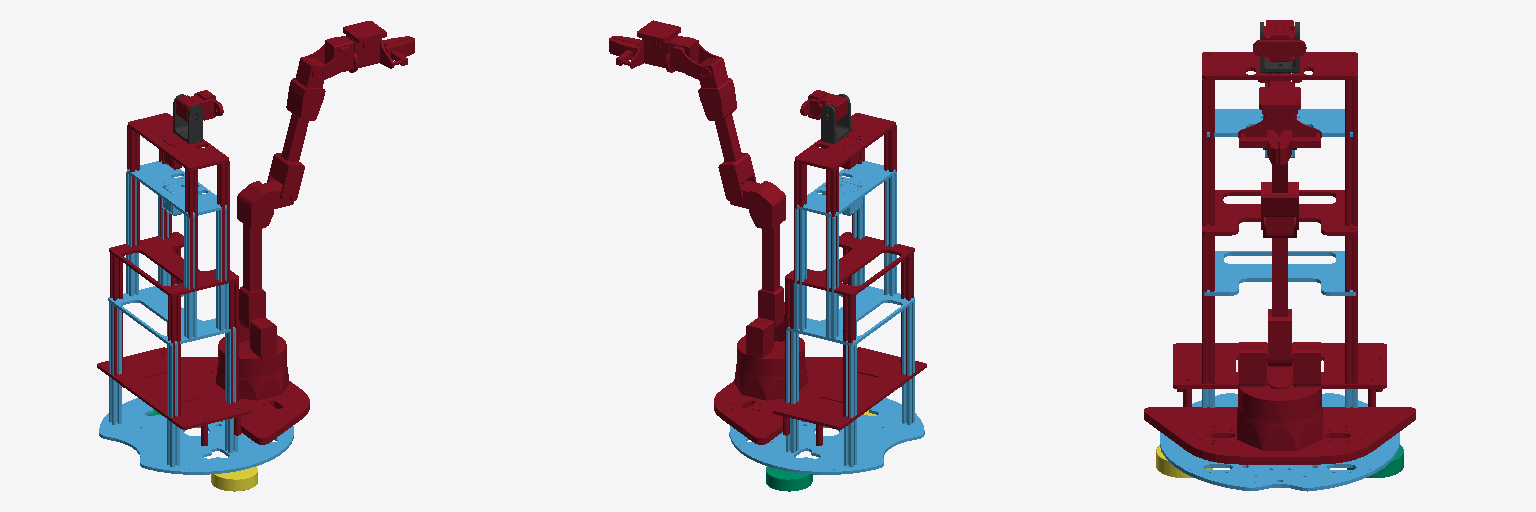
--- What the picture shows (computed from the rendered views, not written in the file) ---
The picture shows the robot from 3 angles, left to right: view 1: azimuth 30°, elevation 25°; view 2: azimuth 150°, elevation 25°; view 3: azimuth 270°, elevation 25°; orthographic projection.
Model locobot with 25 links and 24 joints (24 fixed), rooted at base_footprint, posed every joint at zero.
Links seen in each view (by area): view 1: base_link, cam_mount, elbow_link, forearm_link, plate_2, arm_base_link, shoulder_link, wrist_link, gripper_link, head_pan_link, head_tilt_link, wheel_right_link (+1 smaller); view 2: base_link, cam_mount, elbow_link, forearm_link, plate_2, arm_base_link, shoulder_link, wrist_link, gripper_link, head_pan_link, head_tilt_link, wheel_left_link (+1 smaller); view 3: cam_mount, base_link, plate_2, arm_base_link, shoulder_link, elbow_link, gripper_link, forearm_link, head_tilt_link, plate_1, ar_tag, head_pan_link.
Link boxes in pixels (left/top/right/bottom): base_link: left=99, top=161, right=293, bottom=474; cam_mount: left=97, top=113, right=250, bottom=445; elbow_link: left=237, top=180, right=293, bottom=331; forearm_link: left=267, top=57, right=325, bottom=200; plate_2: left=181, top=357, right=309, bottom=441; arm_base_link: left=216, top=348, right=288, bottom=400; shoulder_link: left=218, top=317, right=286, bottom=360; wrist_link: left=299, top=36, right=353, bottom=80; gripper_link: left=346, top=35, right=407, bottom=72; head_pan_link: left=173, top=94, right=202, bottom=143; head_tilt_link: left=176, top=90, right=223, bottom=121; wheel_right_link: left=211, top=466, right=257, bottom=491; base_link: left=729, top=161, right=924, bottom=474; cam_mount: left=773, top=113, right=926, bottom=445; elbow_link: left=730, top=180, right=785, bottom=330; forearm_link: left=698, top=57, right=756, bottom=201; plate_2: left=714, top=357, right=842, bottom=441; arm_base_link: left=734, top=349, right=807, bottom=400; shoulder_link: left=737, top=302, right=804, bottom=360; wrist_link: left=670, top=36, right=724, bottom=80; gripper_link: left=616, top=35, right=677, bottom=72; head_pan_link: left=821, top=94, right=850, bottom=143; head_tilt_link: left=800, top=90, right=847, bottom=121; wheel_left_link: left=766, top=466, right=812, bottom=491; cam_mount: left=1173, top=52, right=1386, bottom=406; base_link: left=1160, top=109, right=1399, bottom=491; plate_2: left=1144, top=407, right=1415, bottom=460; arm_base_link: left=1237, top=385, right=1322, bottom=450; shoulder_link: left=1238, top=342, right=1321, bottom=402; elbow_link: left=1263, top=217, right=1296, bottom=366; gripper_link: left=1238, top=110, right=1321, bottom=147; forearm_link: left=1261, top=83, right=1298, bottom=229; head_tilt_link: left=1253, top=20, right=1306, bottom=61; plate_1: left=1144, top=415, right=1415, bottom=464; ar_tag: left=1259, top=87, right=1300, bottom=115; head_pan_link: left=1260, top=22, right=1299, bottom=72.
Bounding box of the posed robot: 0.5041 × 0.3299 × 0.6306 m (x, y, z).
Meshes: 16 distinct files referenced, 17 mesh visuals loaded (15 OBJ); not drawn: 1 (reference not matched to a file when rendering).

The robot description file, URDF, robot "locobot":
<?xml version="1.0" ?>
<robot name="locobot">
    <!-- Kobuki -->
    <link name="base_footprint"/>
    <!--
       Base link is set at the bottom of the base mould.
       This is done to be compatible with the way base link
       was configured for turtlebot 1. Refer to

       https://github.com/turtlebot/turtlebot/issues/40

       To put the base link at the more oft used wheel
       axis, set the z-distance from the base_footprint
       to 0.352.
      -->
    <joint name="base_joint" type="fixed">
        <origin rpy="0 0 0" xyz="0 0 0"/>
        <parent link="base_footprint"/>
        <child link="base_link"/>
    </joint>
    <link name="base_link">
        <visual>
            <geometry>
                <!-- new mesh -->
                <mesh filename="meshes/base_link2.obj"/>
            </geometry>
            <origin rpy="0 0 0" xyz="0.001 0 0.05199"/>
        </visual>
        <collision name="base">
            <geometry>
                <cylinder length="0.10938" radius="0.178"/>
            </geometry>
            <origin rpy="0 0 0" xyz="0.0 0 0.05949"/>
        </collision>
        <inertial>
            <!-- COM experimentally determined -->
            <origin xyz="0.01 0 0"/>
            <mass value="2.4"/>
            <!-- 2.4/2.6 kg for small/big battery pack -->
            <!-- Kobuki's inertia tensor is approximated by a cylinder with homogeneous mass distribution
             More details: http://en.wikipedia.org/wiki/List_of_moment_of_inertia_tensors
             m = 2.4 kg; h = 0.09 m; r = 0.175 m
             ixx = 1/12 * m * (3 * r^2 + h^2)
             iyy = 1/12 * m * (3 * r^2 + h^2)
             izz = 1/2 * m * r^2
          -->
            <inertia ixx="0.019995" ixy="0.0" ixz="0.0" iyy="0.019995" iyz="0.0" izz="0.03675"/>
        </inertial>
    </link>
    <joint name="wheel_left_joint" type="fixed">
        <parent link="base_link"/>
        <child link="wheel_left_link"/>
        <origin rpy="-1.57079632679 0 0" xyz="0.00 0.115 0.0250"/>
    </joint>
    <link name="wheel_left_link">
        <visual>
            <geometry>
                <mesh filename="meshes/wheel.obj"/>
            </geometry>
            <origin rpy="0 0 0" xyz="0 0 0"/>
        </visual>
        <collision>
            <geometry>
                <cylinder length="0.0206" radius="0.0352"/>
            </geometry>
            <origin rpy="0 0 0" xyz="0 0 0"/>
        </collision>
        <inertial>
            <mass value="0.01"/>
            <origin xyz="0 0 0"/>
            <inertia ixx="0.001" ixy="0.0" ixz="0.0" iyy="0.001" iyz="0.0" izz="0.001"/>
        </inertial>
    </link>
    <joint name="wheel_right_joint" type="fixed">
        <parent link="base_link"/>
        <child link="wheel_right_link"/>
        <origin rpy="-1.57079632679 0 0" xyz="0.00 -0.115 0.0250"/>
    </joint>
    <link name="wheel_right_link">
        <visual>
            <geometry>
                <mesh filename="meshes/wheel.obj"/>
            </geometry>
            <origin rpy="0 0 0" xyz="0 0 0"/>
        </visual>
        <collision>
            <geometry>
                <cylinder length="0.0206" radius="0.0350"/>
            </geometry>
            <origin rpy="0 0 0" xyz="0 0 0"/>
        </collision>
        <inertial>
            <mass value="0.01"/>
            <origin xyz="0 0 0"/>
            <inertia ixx="0.001" ixy="0.0" ixz="0.0" iyy="0.001" iyz="0.0" izz="0.001"/>
        </inertial>
    </link>
    <joint name="caster_front_joint" type="fixed">
        <parent link="base_link"/>
        <child link="caster_front_link"/>
        <origin rpy="-1.57079632679 0 0" xyz="0.115 0.0 0.007"/>
    </joint>
    <link name="caster_front_link">
        <collision>
            <geometry>
                <cylinder length="0.0176" radius="0.017"/>
            </geometry>
            <origin rpy="0 0 0" xyz="0 0 0"/>
        </collision>
        <inertial>
            <mass value="0.01"/>
            <origin xyz="0 0 0"/>
            <inertia ixx="0.001" ixy="0.0" ixz="0.0" iyy="0.001" iyz="0.0" izz="0.001"/>
        </inertial>
    </link>
    <joint name="caster_back_joint" type="fixed">
        <parent link="base_link"/>
        <child link="caster_back_link"/>
        <origin rpy="-1.57079632679 0 0" xyz="-0.135 0.0 0.009"/>
    </joint>
    <link name="caster_back_link">
        <collision>
            <geometry>
                <cylinder length="0.0176" radius="0.017"/>
            </geometry>
            <origin rpy="0 0 0" xyz="0 0 0"/>
        </collision>
        <inertial>
            <mass value="0.01"/>
            <origin xyz="0 0 0"/>
            <inertia ixx="0.001" ixy="0.0" ixz="0.0" iyy="0.001" iyz="0.0" izz="0.001"/>
        </inertial>
    </link>
    <!-- Kobuki's sensors -->
    <joint name="gyro_joint" type="fixed">
        <axis xyz="0 1 0"/>
        <origin rpy="0 0 0" xyz="0.056 0.062 0.0202"/>
        <parent link="base_link"/>
        <child link="gyro_link"/>
    </joint>
    <link name="gyro_link">
        <inertial>
            <mass value="0.001"/>
            <origin rpy="0 0 0" xyz="0 0 0"/>
            <inertia ixx="0.0001" ixy="0" ixz="0" iyy="0.000001" iyz="0" izz="0.0001"/>
        </inertial>
    </link>
    <joint name="cliff_sensor_left_joint" type="fixed">
        <origin rpy="0 1.57079632679 0" xyz="0.08734 0.13601 0.0214"/>
        <parent link="base_link"/>
        <child link="cliff_sensor_left_link"/>
    </joint>
    <link name="cliff_sensor_left_link">
        <inertial>
            <mass value="0.0001"/>
            <origin xyz="0 0 0"/>
            <inertia ixx="0.0001" ixy="0.0" ixz="0.0" iyy="0.0001" iyz="0.0" izz="0.0001"/>
        </inertial>
    </link>
    <joint name="cliff_sensor_right_joint" type="fixed">
        <origin rpy="0 1.57079632679 0" xyz="0.085 -0.13601 0.0214"/>
        <parent link="base_link"/>
        <child link="cliff_sensor_right_link"/>
    </joint>
    <link name="cliff_sensor_right_link">
        <inertial>
            <mass value="0.0001"/>
            <origin xyz="0 0 0"/>
            <inertia ixx="0.0001" ixy="0.0" ixz="0.0" iyy="0.0001" iyz="0.0" izz="0.0001"/>
        </inertial>
    </link>
    <joint name="cliff_sensor_front_joint" type="fixed">
        <origin rpy="0 1.57079632679 0" xyz="0.156 0.00 0.0214"/>
        <parent link="base_link"/>
        <child link="cliff_sensor_front_link"/>
    </joint>
    <link name="cliff_sensor_front_link">
        <inertial>
            <mass value="0.0001"/>
            <origin xyz="0 0 0"/>
            <inertia ixx="0.0001" ixy="0.0" ixz="0.0" iyy="0.0001" iyz="0.0" izz="0.0001"/>
        </inertial>
    </link>
    <!-- plates  -->
    <link name="plate_1">
        <inertial>
            <origin rpy="0 0 0" xyz="0 0 0"/>
            <mass value="0.640128902693298"/>
            <inertia ixx="0.0212697824374231" ixy="-1.84819421839641E-07" ixz="0.00177278831625861" iyy="0.0200161122874848" iyz="1.82514218153984E-07" izz="0.00538401325307411"/>
        </inertial>
        <visual>
            <origin rpy="0 0 0" xyz="0 0 0"/>
            <geometry>
                <mesh filename="meshes/plate.obj"/>
            </geometry>
            <material name="">
                <color rgba="0.56 0.095 0.165 1.0" />
            </material>
        </visual>
        <collision>
            <origin rpy="0 0 0" xyz="0 0 0"/>
            <geometry>
                <mesh filename="meshes/plate.obj"/>
            </geometry>
        </collision>
    </link>
    <joint name="plate_1_joint" type="fixed">
        <origin rpy="0 0 0" xyz="0.0973 0 0.0902375"/>
        <parent link="base_link"/>
        <child link="plate_1"/>
        <axis xyz="0 0 0"/>
    </joint>
    <link name="plate_2">
        <inertial>
            <origin rpy="0 0 0" xyz="0 0 0"/>
            <mass value="0.640128902693298"/>
            <inertia ixx="0.0212697824374231" ixy="-1.84819421839641E-07" ixz="0.00177278831625861" iyy="0.0200161122874848" iyz="1.82514218153984E-07" izz="0.00538401325307411"/>
        </inertial>
        <visual>
            <origin rpy="0 0 0" xyz="0 0 0"/>
            <geometry>
                <mesh filename="meshes/plate.obj"/>
            </geometry>
            <material name="">
                <color rgba="0.56 0.095 0.165 1.0" />
            </material>
        </visual>
        <collision>
            <origin rpy="0 0 0" xyz="0 0 0"/>
            <geometry>
                <mesh filename="meshes/plate.obj"/>
            </geometry>
        </collision>
    </link>
    <joint name="plate_2_joint" type="fixed">
        <origin rpy="0 0 0" xyz="0 0 0.0047625"/>
        <parent link="plate_1"/>
        <child link="plate_2"/>
        <axis xyz="0 0 0"/>
    </joint>
    <!-- add arm -->
    <link name="arm_base_link">
        <inertial>
            <origin rpy="0 0 0" xyz="-1.86027246940057E-08 -1.84987775462994E-08 0.0400356424684456"/>
            <mass value="0.531491686912019"/>
            <inertia ixx="0.000533657400855491" ixy="-4.44205269454465E-09" ixz="2.11078566024265E-10" iyy="0.000533665698902565" iyz="5.02029005902419E-11" izz="0.00071572082392375"/>
        </inertial>
        <visual>
            <origin rpy="0 0 0" xyz="0 0 0"/>
            <geometry>
                <mesh filename="meshes/arm_base_link.obj"/>
            </geometry>
            <material name="">
                <color rgba="0.56 0.095 0.165 1.0" />
            </material>
        </visual>
        <collision>
            <origin rpy="0 0 0" xyz="0 0 0"/>
            <geometry>
                <mesh filename="meshes/arm_base_link.obj"/>
            </geometry>
        </collision>
    </link>
    <joint name="arm_base_link_joint" type="fixed">
        <origin rpy="0 0 0" xyz="0 0 0.001"/>
        <parent link="plate_2"/>
        <child link="arm_base_link"/>
        <axis xyz="0 0 0"/>
    </joint>
    <link name="shoulder_link">
        <inertial>
            <origin rpy="0 0 0" xyz="-5.67968980068612E-05 1.09785478984274E-10 0.0228467386735302"/>
            <mass value="0.119861197293521"/>
            <inertia ixx="0.000161288180462291" ixy="7.59806211309873E-14" ixz="-1.45323090659527E-07" iyy="5.49696562437107E-05" iyz="1.81052501311883E-13" izz="0.000150800672543169"/>
        </inertial>
        <visual>
            <origin rpy="0 0 0" xyz="0 0 0"/>
            <geometry>
                <mesh filename="meshes/shoulder_link.obj"/>
            </geometry>
            <material name="">
                <color rgba="0.56 0.095 0.165 1.0" />
            </material>
        </visual>
        <collision>
            <origin rpy="0 0 0" xyz="0 0 0"/>
            <geometry>
                <mesh filename="meshes/shoulder_link.obj"/>
            </geometry>
        </collision>
    </link>
    <joint name="joint_1" type="fixed">
        <origin rpy="0 0 0" xyz="0 0 0.072"/>
        <parent link="arm_base_link"/>
        <child link="shoulder_link"/>

    </joint>
    <link name="elbow_link">
        <inertial>
            <origin rpy="0 0 0" xyz="0.00959755948481227 -2.30930057287648E-10 0.134296795349987"/>
            <mass value="0.212482745791037"/>
            <inertia ixx="0.0011748973771367" ixy="-4.7094567420817E-13" ixz="-0.000132188939134774" iyy="0.00122350302249847" iyz="-5.48932537472287E-12" izz="9.02202689343621E-05"/>
        </inertial>
        <visual>
            <origin rpy="0 0 0" xyz="0 0 0"/>
            <geometry>
                <mesh filename="meshes/elbow_link.obj"/>
            </geometry>
            <material name="">
                <color rgba="0.56 0.095 0.165 1.0" />
            </material>
        </visual>
        <collision>
            <origin rpy="0 0 0" xyz="0 0 0"/>
            <geometry>
                <mesh filename="meshes/elbow_link.obj"/>
            </geometry>
        </collision>
    </link>
    <joint name="joint_2" type="fixed">
        <origin rpy="0 0 0" xyz="0 0 0.04125"/>
        <parent link="shoulder_link"/>
        <child link="elbow_link"/>

    </joint>
    <link name="forearm_link">
        <inertial>
            <origin rpy="0 0 0" xyz="0.117829826272582 3.09310973110905E-15 -1.26218883678142E-08"/>
            <mass value="0.18746427435805"/>
            <inertia ixx="3.94142667601686E-05" ixy="-3.65830967659785E-19" ixz="9.25852572167442E-11" iyy="0.000725209569605637" iyz="-1.05290858715495E-18" izz="0.000737165881391993"/>
        </inertial>
        <visual>
            <origin rpy="0 0 0" xyz="0 0 0"/>
            <geometry>
                <mesh filename="meshes/forearm_link.obj"/>
            </geometry>
            <material name="">
                <color rgba="0.56 0.095 0.165 1.0" />
            </material>
        </visual>
        <collision>
            <origin rpy="0 0 0" xyz="0 0 0"/>
            <geometry>
                <mesh filename="meshes/forearm_link.obj"/>
            </geometry>
        </collision>
    </link>
    <joint name="joint_3" type="fixed">
        <origin rpy="0 -1.3 0" xyz="0.05 0 0.2"/>
        <parent link="elbow_link"/>
        <child link="forearm_link"/>

    </joint>
    <link name="wrist_link">
        <inertial>
            <origin rpy="0 0 0" xyz="0.0429410028407894 4.98644733821042E-05 0.0114266948023652"/>
            <mass value="0.0605921736680362"/>
            <inertia ixx="1.84998512056284E-05" ixy="-1.03256667343112E-08" ixz="-1.71865409274096E-06" iyy="2.08955068262134E-05" iyz="5.05203399787143E-09" izz="1.97857037442992E-05"/>
        </inertial>
        <visual>
            <origin rpy="0 0 0" xyz="0 0 0"/>
            <geometry>
                <mesh filename="meshes/wrist_link.obj"/>
            </geometry>
            <material name="">
                <color rgba="0.56 0.095 0.165 1.0" />
            </material>
        </visual>
        <collision>
            <origin rpy="0 0 0" xyz="0 0 0"/>
            <geometry>
                <mesh filename="meshes/wrist_link.obj"/>
            </geometry>
        </collision>
    </link>
    <joint name="joint_4" type="fixed">
        <origin rpy="0 1.3 0" xyz="0.2002 0 0"/>
        <parent link="forearm_link"/>
        <child link="wrist_link"/>

    </joint>
    <link name="gripper_link">
        <inertial>
            <origin rpy="0 0 0" xyz="0.0311572802112565 -1.25977280754998E-05 0.0092307003092138"/>
            <mass value="0.0795745052466434"/>
            <inertia ixx="3.27413333929741E-05" ixy="3.7314060486416E-08" ixz="3.97669066588691E-06" iyy="4.47182985231326E-05" iyz="-9.49992756213297E-09" izz="5.02142570756738E-05"/>
        </inertial>
        <visual>
            <origin rpy="0 0 0" xyz="0 0 0"/>
            <geometry>
                <mesh filename="meshes/gripper_link.obj"/>
            </geometry>
            <material name="">
                <color rgba="0.56 0.095 0.165 1.0" />
            </material>
        </visual>
        <collision>
            <origin rpy="0 0 0" xyz="0 0 0"/>
            <geometry>
                <mesh filename="meshes/gripper_link.obj"/>
            </geometry>
        </collision>
    </link>
    <joint name="joint_5" type="fixed">
        <origin rpy="0 0 0" xyz="0.063 0.0001 0"/>
        <parent link="wrist_link"/>
        <child link="gripper_link"/>
    </joint>
    <link name="finger_r">
        <inertial>
            <origin rpy="0 0 0" xyz="0.0100191457715113 -0.00843835347348892 -0.00483280251641866"/>
            <mass value="0.0121931459003602"/>
            <inertia ixx="6.74016278931418E-07" ixy="-2.36459038775023E-07" ixz="3.1480125304693E-09" iyy="3.10966297287339E-06" iyz="1.19271018871704E-10" izz="2.77935600332309E-06"/>
        </inertial>
        <visual>
            <origin rpy="0 0 0" xyz="0 0 0"/>
            <geometry>
                <mesh filename="meshes/finger_r.obj"/>
            </geometry>
            <material name="">
                <color rgba="0.56 0.095 0.165 1.0" />
            </material>
        </visual>
        <collision>
            <origin rpy="0 0 0" xyz="0 0 0"/>
            <geometry>
                <mesh filename="meshes/finger_r.obj"/>
            </geometry>
        </collision>
    </link>
    <joint name="joint_6" type="fixed">
        <origin rpy="0 0 0" xyz="0.07285 0 0.0050143"/>
        <parent link="gripper_link"/>
        <child link="finger_r"/>

    </joint>
    <link name="finger_l">
        <inertial>
            <origin rpy="0 0 0" xyz="0.0100191599590265 0.00643833435729511 -0.00483280251641866"/>
            <mass value="0.0121931459003603"/>
            <inertia ixx="6.74017180959932E-07" ixy="2.3646368440071E-07" ixz="3.14801230297432E-09" iyy="3.10966207084492E-06" iyz="-1.19277023229564E-10" izz="2.77935600332313E-06"/>
        </inertial>
        <visual>
            <origin rpy="0 0 0" xyz="0 0 0"/>
            <geometry>
                <mesh filename="meshes/finger_l.obj"/>
            </geometry>
            <material name="">
                <color rgba="0.56 0.095 0.165 1.0" />
            </material>
        </visual>
        <collision>
            <origin rpy="0 0 0" xyz="0 0 0"/>
            <geometry>
                <mesh filename="meshes/finger_l.obj"/>
            </geometry>
        </collision>
    </link>
    <joint name="joint_7" type="fixed">
        <origin rpy="0 0 0" xyz="0.07285 0 0.0050143"/>
        <parent link="gripper_link"/>
        <child link="finger_l"/>

    </joint>
    <link name="ar_tag">
        <inertial>
            <origin rpy="0 0 0" xyz="-1.59182528269852E-09 1.70641183422241E-09 -0.00509579048106218"/>
            <mass value="0.0202622634619862"/>
            <inertia ixx="4.71058333074219E-06" ixy="3.03778067070489E-12" ixz="6.65421687578365E-13" iyy="4.05773489073818E-06" iyz="1.37033485576347E-13" izz="7.92378853658606E-06"/>
        </inertial>
        <visual>
            <origin rpy="0 0 0" xyz="0 0 0"/>
            <geometry>
                <mesh filename="meshes/ar_tag.obj"/>
            </geometry>
            <material name="">
                <color rgba="0.56 0.095 0.165 1.0" />
            </material>
        </visual>
        <collision>
            <origin rpy="0 0 0" xyz="0 0 0"/>
            <geometry>
                <mesh filename="meshes/ar_tag.obj"/>
            </geometry>
        </collision>
    </link>
    <joint name="ar_tag_joint" type="fixed">
        <origin rpy="0 0 0" xyz="0.0269499999999999 0 0.04315"/>
        <parent link="gripper_link"/>
        <child link="ar_tag"/>
        <axis xyz="0 0 0"/>
    </joint>
    <!-- need to add camera assembly -->
    <link name="cam_mount">
        <inertial>
            <origin rpy="0 0 0" xyz="0.00357169217419921 -0.000144750803528887 0.178406861295468"/>
            <mass value="0.508068698311304"/>
            <inertia ixx="0.0159487749924762" ixy="9.45818767875249E-08" ixz="-0.000266253609478166" iyy="0.0137751425461872" iyz="2.26699147122113E-06" izz="0.00331206257835318"/>
        </inertial>
        <visual>
            <origin rpy="0 0 0" xyz="0 0 0"/>
            <geometry>
                <mesh filename="meshes/cam_mount.obj"/>
            </geometry>
            <material name="">
                <color rgba="0.56 0.095 0.165 1.0" />
            </material>
        </visual>
        <collision>
            <origin rpy="0 0 0" xyz="0 0 0"/>
            <geometry>
                <mesh filename="meshes/cam_mount.obj"/>
            </geometry>
        </collision>
    </link>
    <joint name="cam_mount_joint" type="fixed">
        <origin rpy="0 0 0" xyz="-0.03751 0 0.1331"/>
        <parent link="base_link"/>
        <child link="cam_mount"/>
        <axis xyz="0 0 0"/>
    </joint>
    <link name="head_pan_link">
        <inertial>
            <origin rpy="0 0 0" xyz="-1.35308431126191E-16 -2.97071395261028E-17 0.0220876265081744"/>
            <mass value="0.0182769203076134"/>
            <inertia ixx="1.32243845065555E-05" ixy="5.07660179129181E-13" ixz="1.067515220067E-20" iyy="7.13386116649085E-06" iyz="-1.32882457845217E-20" izz="7.83291781352837E-06"/>
        </inertial>
        <visual>
            <origin rpy="0 0 0" xyz="0 0 0"/>
            <geometry>
                <mesh filename="meshes/tilt_link.obj"/>
            </geometry>
            <material name="">
                <color rgba="0.250980392156863 0.250980392156863 0.250980392156863 1"/>
            </material>
        </visual>
        <collision>
            <origin rpy="0 0 0" xyz="0 0 0"/>
            <geometry>
                <mesh filename="meshes/tilt_link.obj"/>
            </geometry>
        </collision>
    </link>
    <joint name="head_pan_joint" type="fixed">
        <origin rpy="0 0 0" xyz="0.0240154841629213 -0.000373468229198185 0.4065"/>
        <parent link="cam_mount"/>
        <child link="head_pan_link"/>
    </joint>
    <link name="head_tilt_link">
        <inertial>
            <origin rpy="0 0 0" xyz="0.0168744200088311 -0.000442984145897884 -0.00405256422002387"/>
            <mass value="0.0547677687275323"/>
            <inertia ixx="1.07071738005716E-05" ixy="-1.46854788384565E-07" ixz="5.59529059364376E-08" iyy="1.77011620295824E-05" iyz="1.27587154712834E-09" izz="2.01583693170578E-05"/>
        </inertial>
        <visual>
            <origin rpy="0 0 0" xyz="0 0 0"/>
            <geometry>
                <mesh filename="meshes/roll_link.obj"/>
            </geometry>
            <material name="">
                <color rgba="0.56 0.095 0.165 1.0" />
            </material>
        </visual>
        <collision>
            <origin rpy="0 0 0" xyz="0 0 0"/>
            <geometry>
                <mesh filename="meshes/roll_link.obj"/>
            </geometry>
        </collision>
    </link>
    <joint name="head_tilt_joint" type="fixed">
        <origin rpy="0 0 0" xyz="0 0 0.05"/>
        <parent link="head_pan_link"/>
        <child link="head_tilt_link"/>

    </joint>
    <link name="camera_link">
        <inertial>
            <origin rpy="0 0 0" xyz="-0.0132722976093535 0.00168171470080143 2.49829664994428E-06"/>
            <mass value="0.0381925651163644"/>
            <inertia ixx="2.4688255642946E-05" ixy="1.60697655569215E-07" ixz="1.2993241737711E-08" iyy="3.66669176935806E-06" iyz="1.30215657011203E-08" izz="2.48602467766615E-05"/>
        </inertial>
        <visual>
            <origin rpy="0 0 0" xyz="0 0 0"/>
            <geometry>
                <mesh filename="meshes/camera_link.obj"/>
            </geometry>
            <material name="">
                <color rgba="0.56 0.095 0.165 1.0" />
            </material>
        </visual>
        <collision>
            <origin rpy="0 0 0" xyz="0 0 0"/>
            <geometry>
                <mesh filename="meshes/camera_link.obj"/>
            </geometry>
        </collision>
    </link>
    <joint name="camera_joint" type="fixed">
        <origin rpy="0 0 0" xyz="0.06705 0 -0.00425"/>
        <parent link="head_tilt_link"/>
        <child link="camera_link"/>
        <axis xyz="0 0 0"/>
    </joint>

    <!--     <gazebo>
            <plugin name="kobuki_controller" filename="libgazebo_ros_kobuki.so">
              <publish_tf>1</publish_tf>
              <publish_joint_states>0</publish_joint_states>
              <left_wheel_joint_name>wheel_left_joint</left_wheel_joint_name>
              <right_wheel_joint_name>wheel_right_joint</right_wheel_joint_name>
              <wheel_separation>.230</wheel_separation>
              <wheel_diameter>0.070</wheel_diameter>
              <torque>1.0</torque>
              <velocity_command_timeout>0.6</velocity_command_timeout>
              <cliff_sensor_left_name>cliff_sensor_left</cliff_sensor_left_name>
              <cliff_sensor_center_name>cliff_sensor_front</cliff_sensor_center_name>
              <cliff_sensor_right_name>cliff_sensor_right</cliff_sensor_right_name>
              <cliff_detection_threshold>0.04</cliff_detection_threshold>
              <bumper_name>bumpers</bumper_name>
              <robotNamespace>/base</robotNamespace>
            <imu_name>imu</imu_name>
            </plugin>
         </gazebo> -->


</robot>
